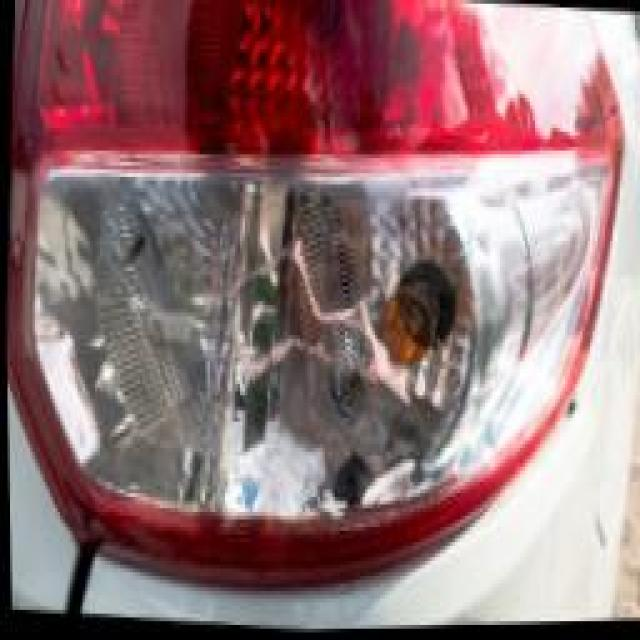Light: (72, 165, 466, 510)
